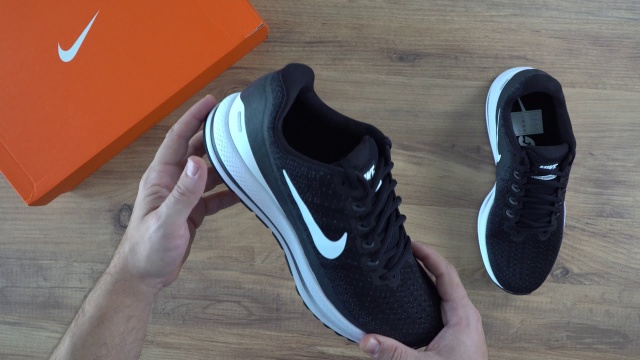nike: (277, 166, 350, 263)
